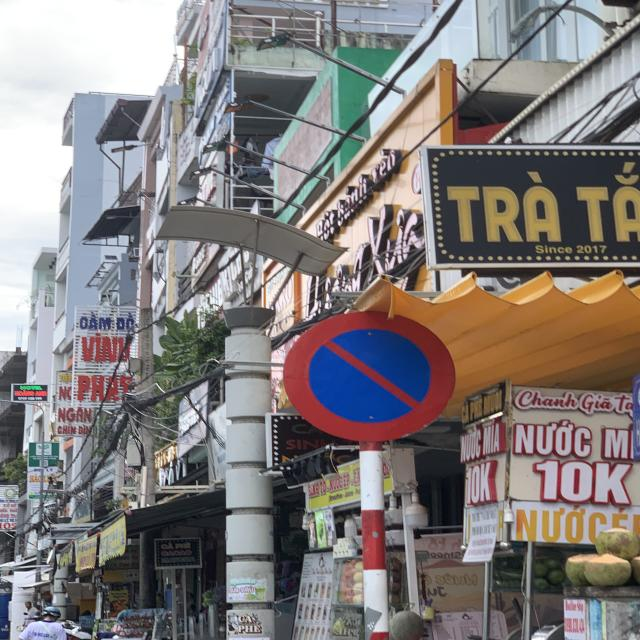Cam_Dau_Xe: (282, 310, 456, 440)
